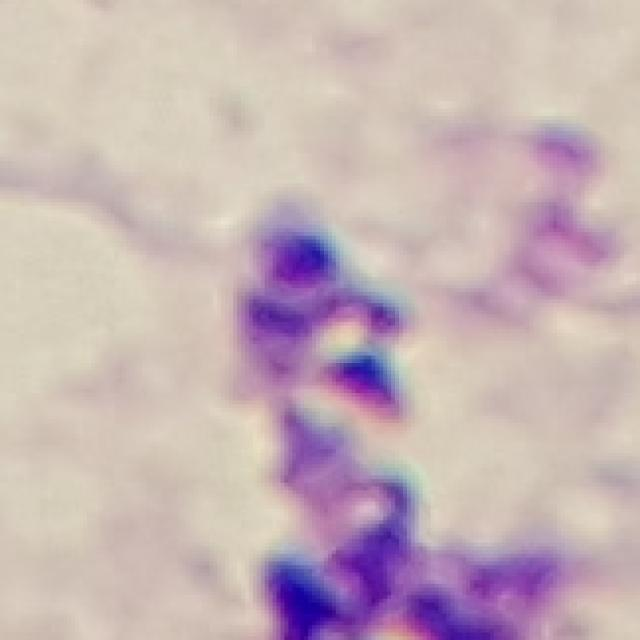non-sperm: (232, 212, 564, 639)
